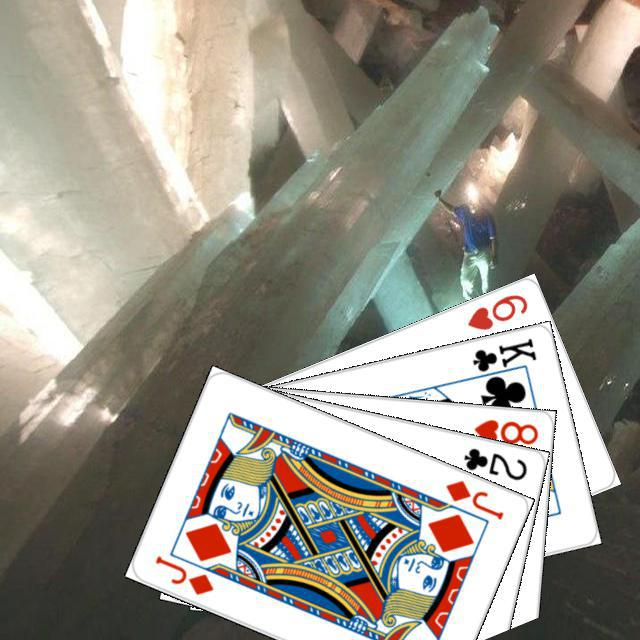2c: (458, 443, 529, 482)
6h: (462, 289, 530, 332)
8h: (469, 414, 540, 447)
Jd: (150, 550, 216, 597), (440, 475, 505, 522)
Kc: (464, 333, 539, 382)
